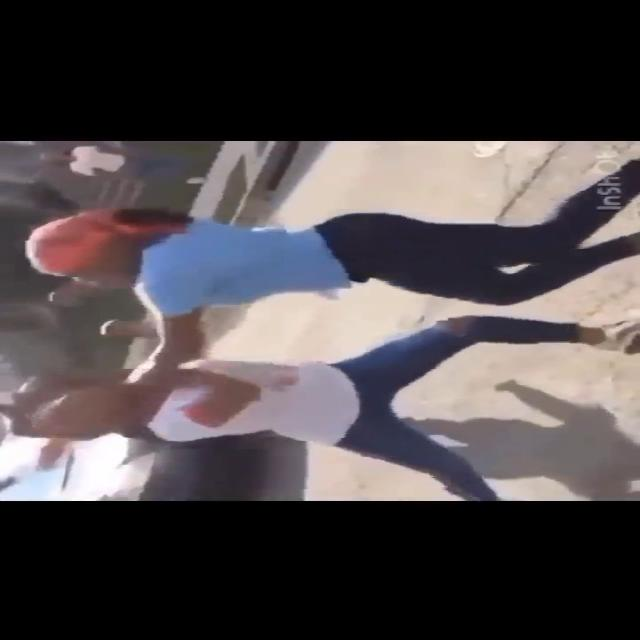Violence: (20, 213, 640, 440)
